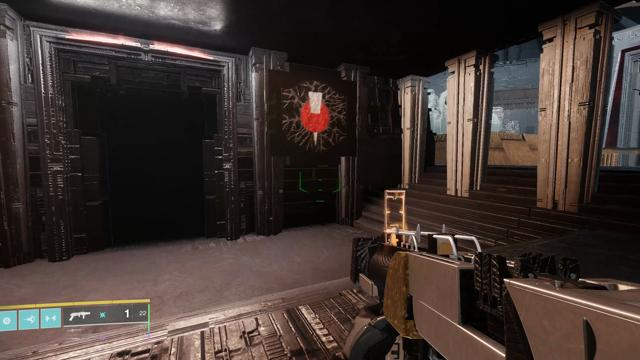kill: (282, 80, 347, 152)
